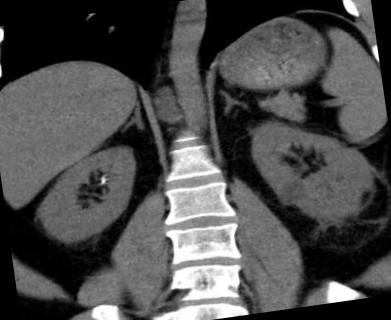Tas_Var: (100, 178, 106, 185)
